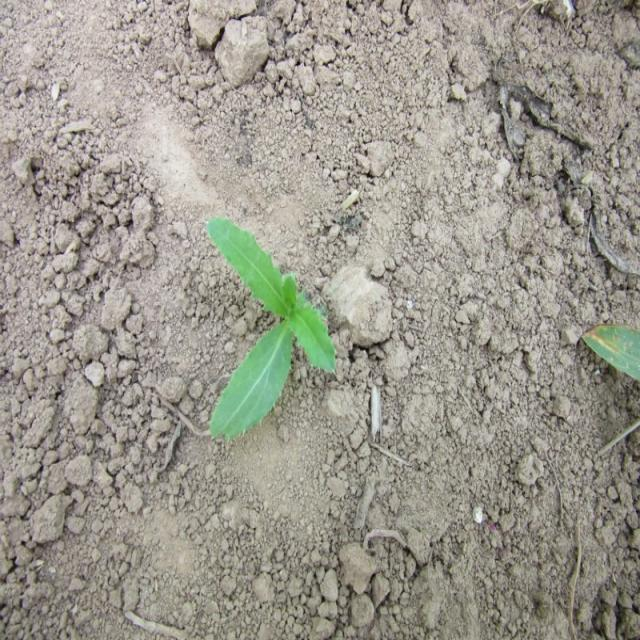cs: (200, 206, 338, 446)
